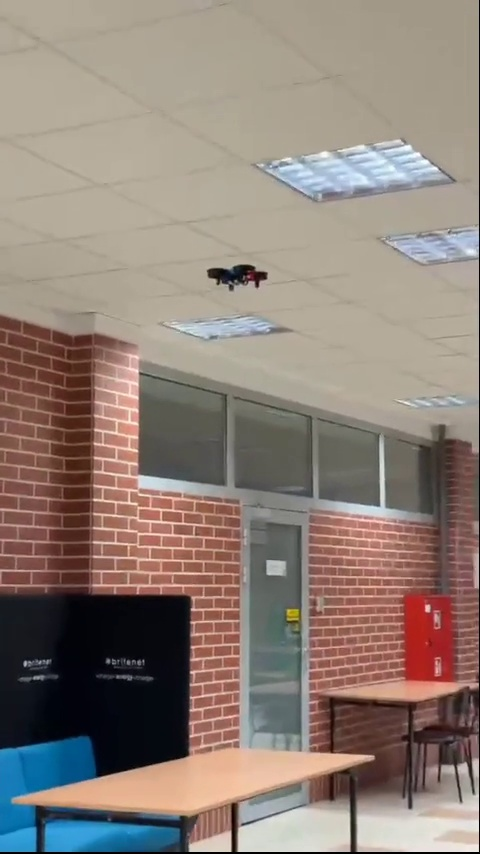drone: (204, 262, 267, 292)
